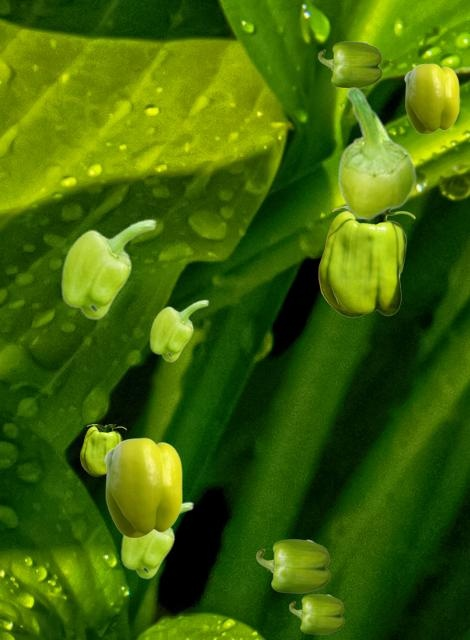bell_pepper: (318, 206, 414, 316), (337, 87, 416, 219), (60, 218, 156, 319), (104, 437, 181, 537), (120, 501, 193, 578), (256, 539, 329, 592), (404, 63, 458, 133), (149, 299, 208, 361), (318, 41, 381, 87), (80, 424, 125, 475), (289, 594, 343, 633)
